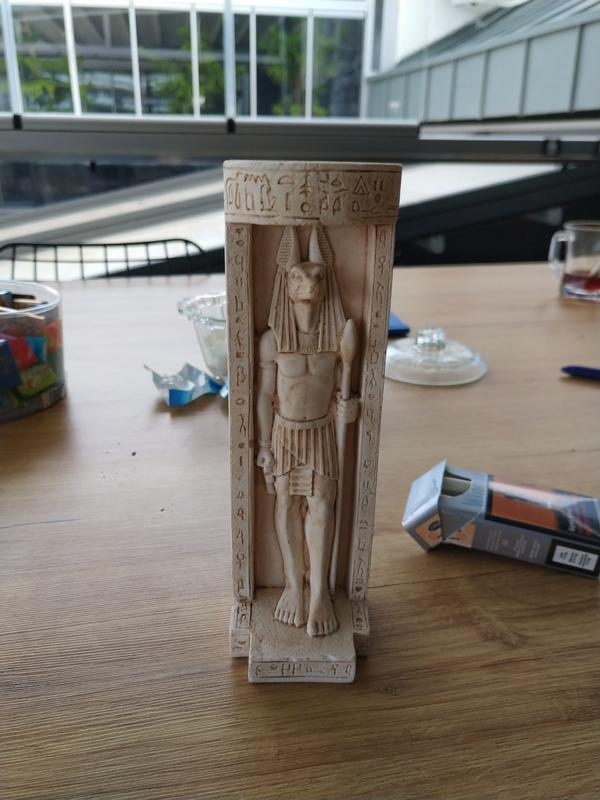heykel: (214, 152, 406, 694)
